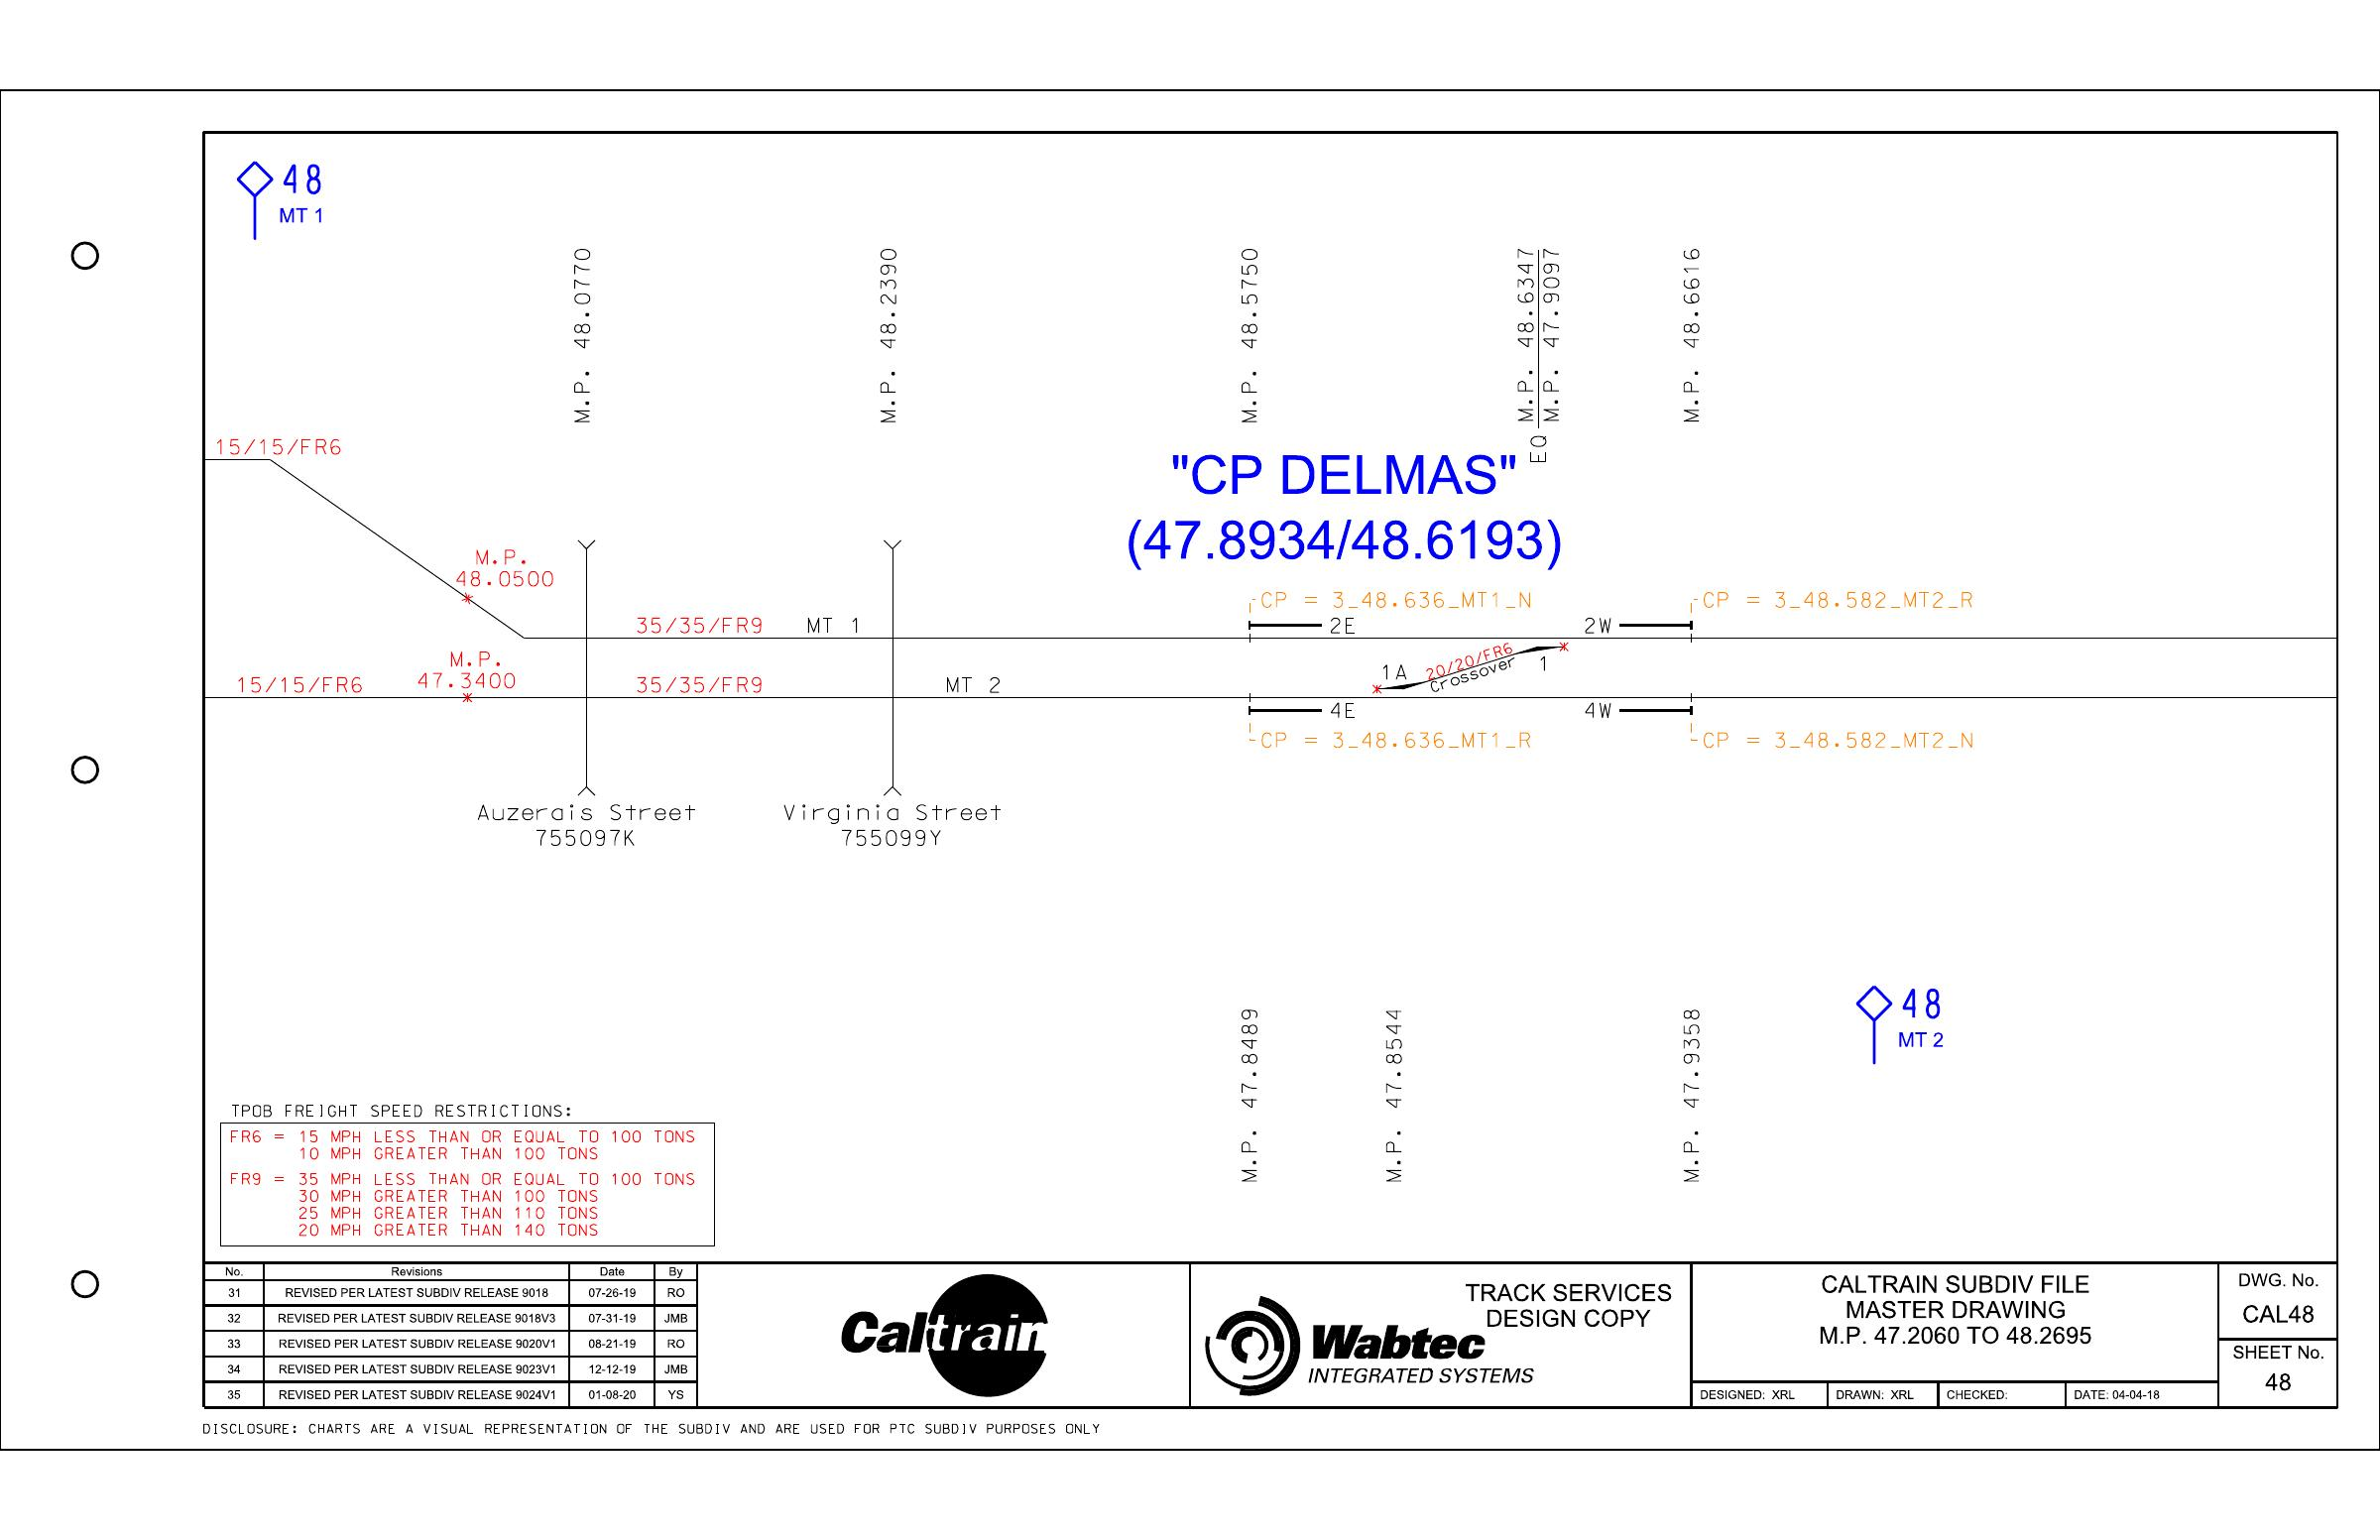crossing: (860, 515, 923, 824), (557, 503, 607, 817)
crossinglabel: (432, 789, 727, 862), (758, 789, 1041, 862)
milepost: (1655, 219, 1742, 468), (1506, 232, 1587, 480), (1644, 985, 1731, 1216), (1213, 983, 1296, 1212), (1353, 978, 1431, 1214), (1214, 224, 1296, 449), (545, 224, 624, 453), (841, 225, 921, 451)
signal: (1237, 604, 1379, 664), (1579, 598, 1703, 664), (1235, 683, 1379, 728), (1579, 685, 1702, 728)
switch: (1516, 631, 1568, 687), (1372, 659, 1422, 702)
